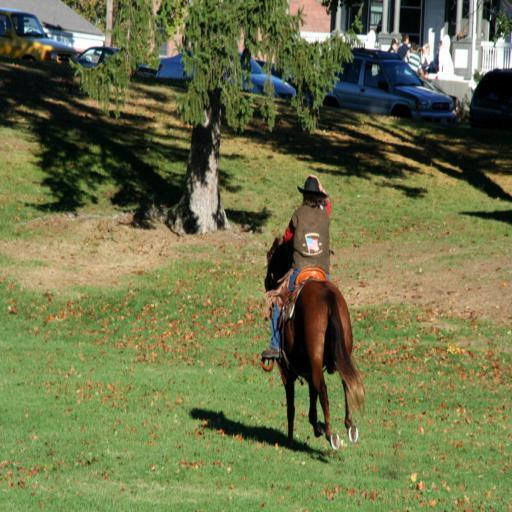horse: (262, 228, 366, 455)
